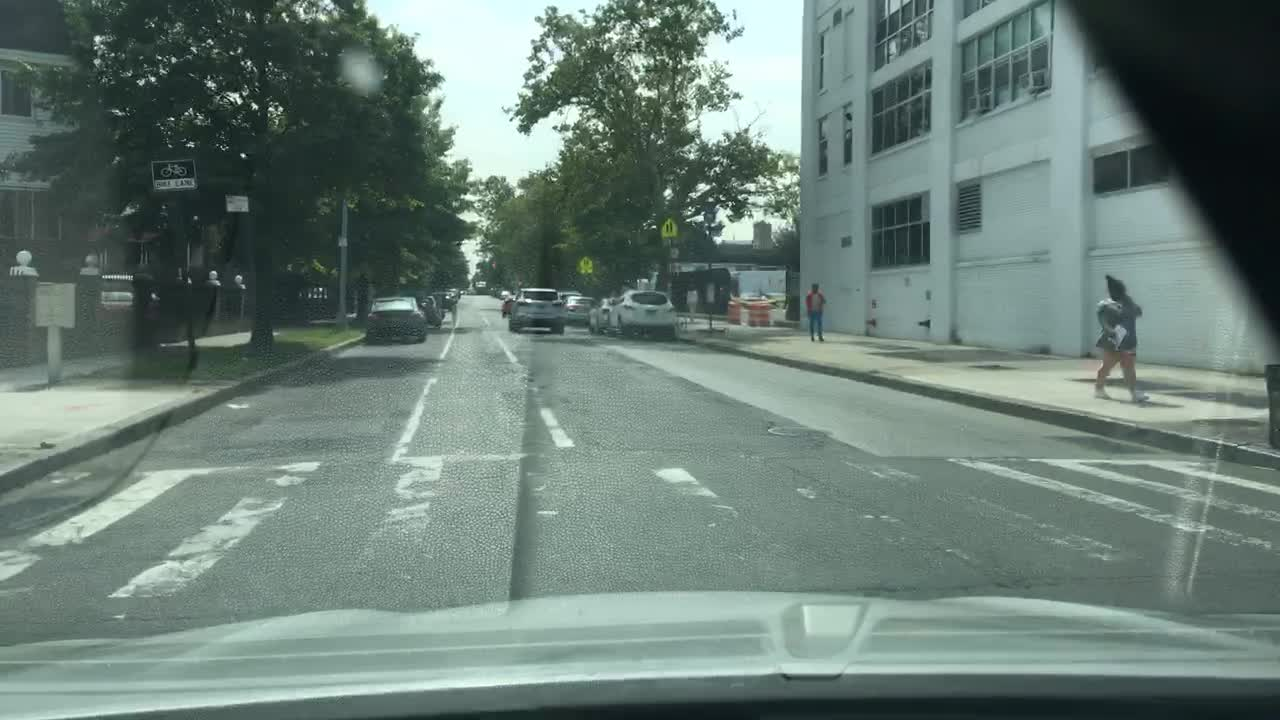car: (606, 289, 679, 338), (94, 273, 162, 321), (364, 295, 427, 345), (509, 289, 567, 333), (410, 284, 445, 327), (590, 292, 624, 332), (566, 293, 601, 322), (555, 287, 587, 307), (433, 287, 456, 309), (500, 289, 521, 306), (445, 284, 459, 301), (495, 287, 511, 300), (485, 284, 500, 296), (457, 286, 468, 298)
person: (1093, 273, 1148, 404), (805, 281, 828, 344)
traffic sign: (150, 160, 200, 191), (225, 192, 254, 215), (659, 217, 681, 237), (574, 255, 595, 272)
